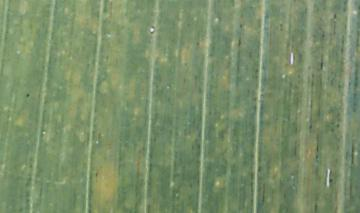tarspot: (24, 91, 31, 99), (329, 176, 334, 184)
